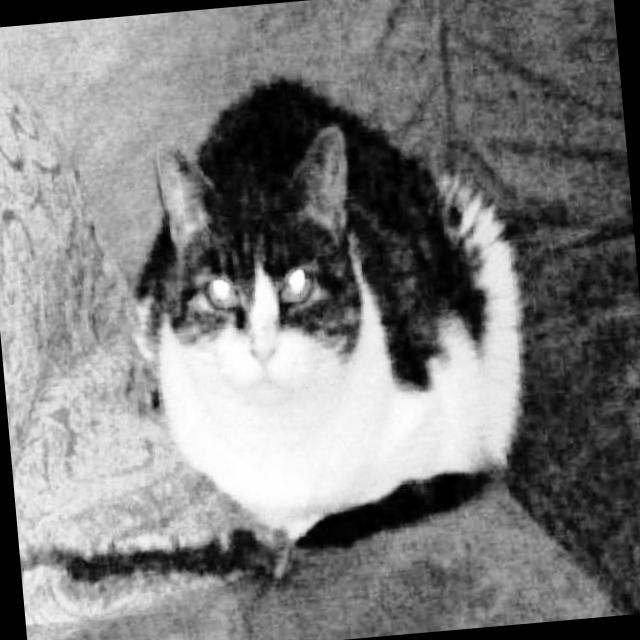Cat: (106, 42, 541, 580)
